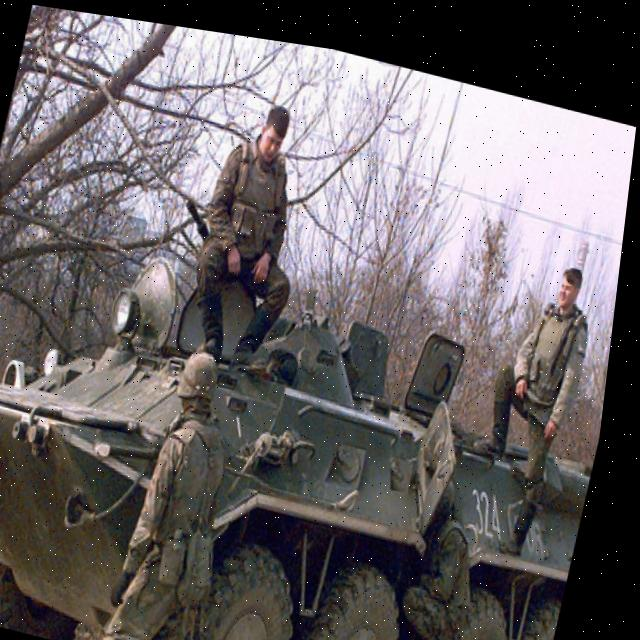MIL_APC: (0, 219, 620, 640)
